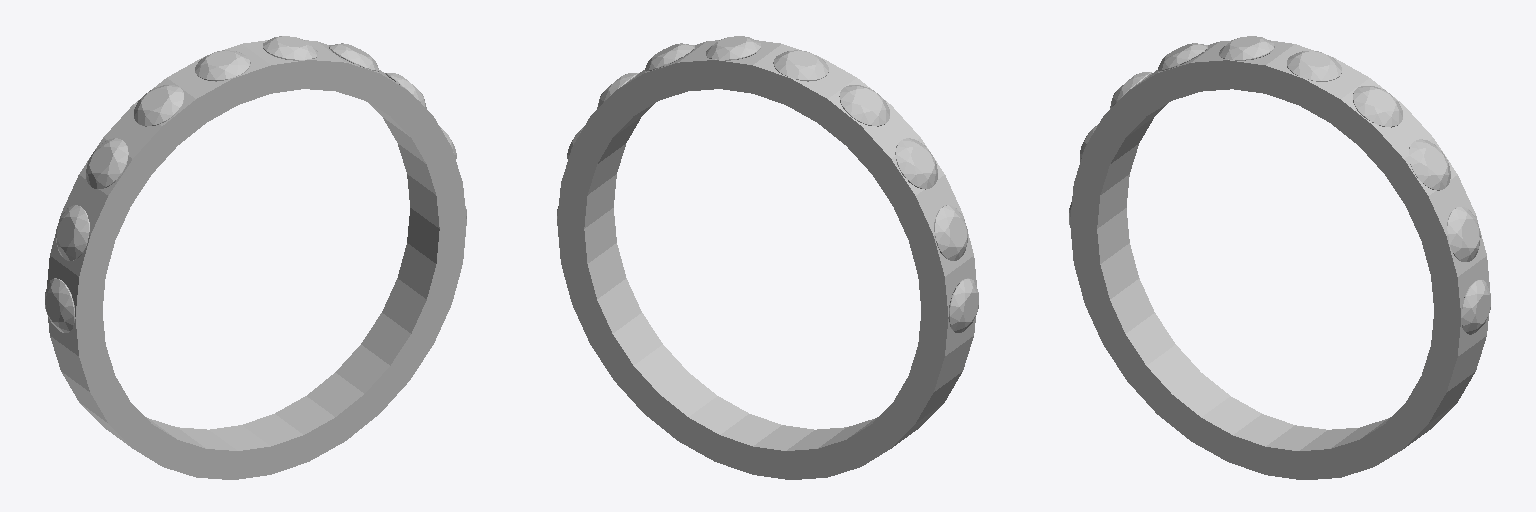
Rendered from ring2.obj.
3 views of the same model, side by side, from view 1: azimuth 30°, elevation 25°; view 2: azimuth 150°, elevation 25°; view 3: azimuth 330°, elevation 25° (orthographic).
Parts seen in each view (by area): view 1: Ring_Round.001; view 2: Ring_Round.001; view 3: Ring_Round.001.
Part boxes in pixels (x1,y1,x2,y2): Ring_Round.001: (45, 36, 466, 479); Ring_Round.001: (557, 36, 978, 479); Ring_Round.001: (1069, 36, 1490, 479).
Size of the model in its own units: 2.08 by 2.03 by 0.2608.